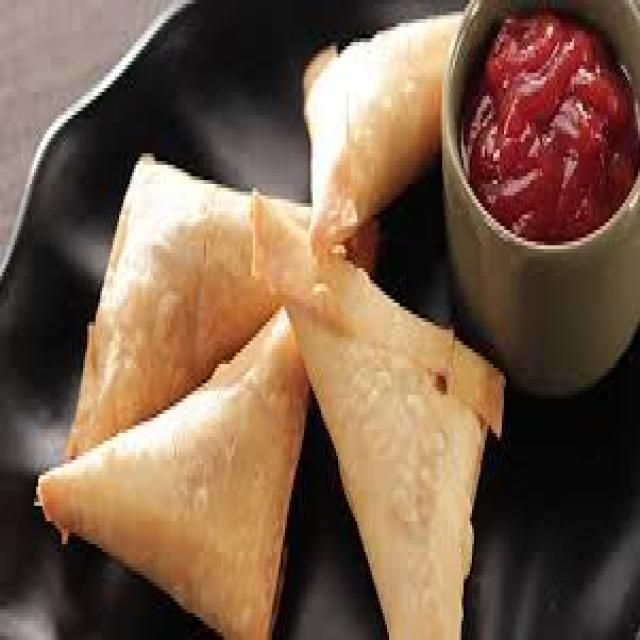SAMOSA: (253, 192, 502, 636), (40, 310, 308, 636), (68, 157, 308, 452), (304, 15, 459, 241)
